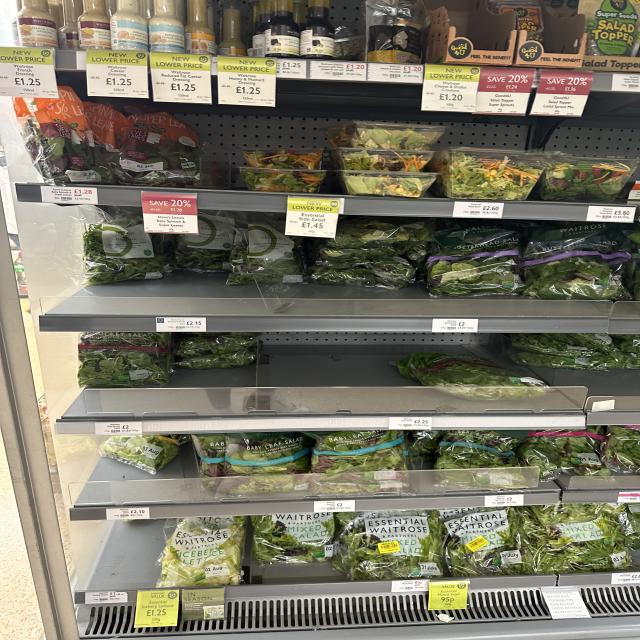Lechuga/Endivia: (310, 219, 425, 283), (532, 231, 632, 301), (407, 350, 546, 400), (430, 228, 522, 299), (200, 434, 311, 491), (349, 512, 436, 581), (444, 508, 521, 577), (534, 516, 626, 572), (310, 432, 402, 488), (519, 331, 640, 372), (159, 531, 242, 588), (73, 330, 167, 380), (521, 430, 606, 481), (258, 512, 330, 565), (441, 434, 510, 486), (181, 332, 261, 367), (112, 437, 182, 470)
